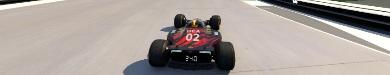Car: (147, 13, 235, 69)
curve: (0, 0, 389, 74)
